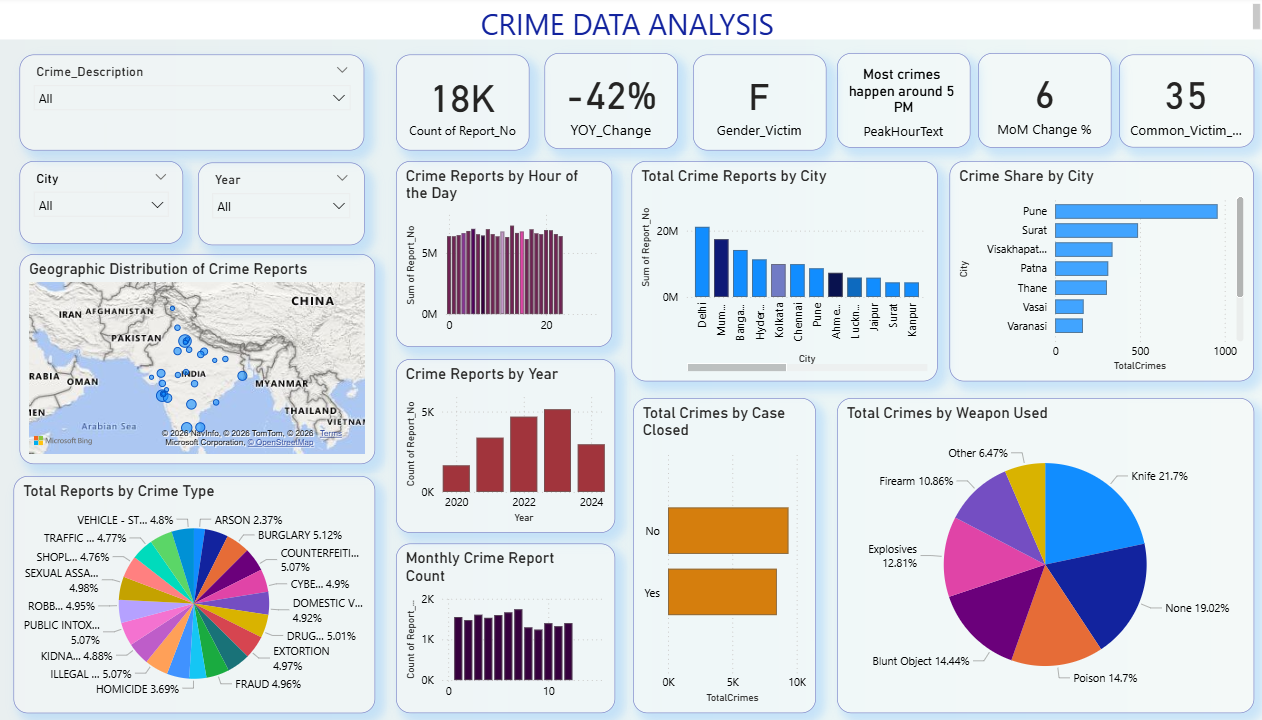

The dashboard page shown, as its layout file describes it:
{"tool":"powerbi","page":{"name":"Page 1","canvas":[1400,800],"ordinal":0},"visuals":[{"type":"card","fields":{"Values":["Count(crime_dataset_india.Report_No)"]},"box":[440.5,64.6,147.4,106],"z":0},{"type":"pieChart","title":"Total Reports by Crime Type","fields":{"Series":["crime_dataset_india.Crime_Description"],"Y":["Sum(crime_dataset_india.Report_No)"]},"box":[18.2,530,399.1,261.7],"z":1000},{"type":"clusteredColumnChart","title":"Crime Reports by Year","fields":{"Y":["Count(crime_dataset_india.Report_No)"],"Category":["crime_dataset_india.Year"]},"box":[440.5,400.8,241.8,192.1],"z":2000},{"type":"clusteredColumnChart","title":"Monthly Crime Report Count","fields":{"Y":["Count(crime_dataset_india.Report_No)"],"Category":["crime_dataset_india.Month"]},"box":[440.5,604.5,241.8,187.1],"z":3000},{"type":"columnChart","title":"Crime Reports by Hour of the Day","fields":{"Y":["Sum(crime_dataset_india.Report_No)"],"Category":["crime_dataset_india.Hour"]},"box":[440.5,182.2,238.5,205.4],"z":4000},{"type":"card","fields":{"Values":["crime_dataset_india.PeakHourText"]},"box":[927.5,62.9,147.4,104.3],"z":5000},{"type":"card","fields":{"Values":["crime_dataset_india.Most_Common_Victim_Age"]},"box":[1238.8,64.6,149.1,102.7],"z":6000},{"type":"card","fields":{"Values":["crime_dataset_india.Most_Common_Victim_Gender"]},"box":[768.5,64.6,147.4,106],"z":7000},{"type":"columnChart","title":"Total Crime Reports by City","fields":{"Category":["crime_dataset_india.City"],"Y":["Sum(crime_dataset_india.Report_No)"]},"box":[700.6,182.2,337.9,243.5],"z":8000},{"type":"card","fields":{"Values":["crime_dataset_india.YOY_Change"]},"box":[604.5,62.9,147.4,106],"z":9000},{"type":"barChart","title":"Crime Share by City","fields":{"Category":["crime_dataset_india.City"],"Y":["crime_dataset_india.TotalCrimes"]},"box":[1051.7,182.2,336.2,243.5],"z":10000},{"type":"map","title":"Geographic Distribution of Crime Reports","fields":{"Category":["crime_dataset_india.City"],"Size":["crime_dataset_india.TotalCrimes"]},"box":[24.8,284.9,392.5,231.9],"z":11000},{"type":"pieChart","title":"Total Crimes by Weapon Used","fields":{"Category":["crime_dataset_india.Weapon_Used"],"Y":["crime_dataset_india.TotalCrimes"]},"box":[927.5,443.9,460.4,347.8],"z":12000},{"type":"barChart","title":"Total Crimes by Case Closed","fields":{"Category":["crime_dataset_india.Case_Closed"],"Y":["crime_dataset_india.TotalCrimes"]},"box":[702.2,443.9,202.1,347.8],"z":13000},{"type":"slicer","fields":{"Values":["crime_dataset_india.City"]},"box":[24.8,182.2,180.5,91.1],"z":14000},{"type":"slicer","fields":{"Values":["crime_dataset_india.Crime_Description"]},"box":[24.8,64.6,380.9,106],"z":15000},{"type":"slicer","fields":{"Values":["crime_dataset_india.Year"]},"box":[221.9,183.8,183.8,91.1],"z":16000},{"type":"card","fields":{"Values":["crime_dataset_india.MoM Change %"]},"box":[1083.1,62.9,147.4,104.3],"z":18000},{"type":"textbox","box":[0,3.3,1399.5,44.7],"z":18001}]}

Visuals, with their boxes in screenshot pixels (x1, y1, x2, y2), scaled from the page's 1400x800 canvas onto the 1262x720 screenshot:
card - Count(crime_dataset_india.Report_No): 397, 58, 530, 154
"Total Reports by Crime Type" pieChart: 16, 477, 376, 713
"Crime Reports by Year" clusteredColumnChart: 397, 361, 615, 534
"Monthly Crime Report Count" clusteredColumnChart: 397, 544, 615, 712
"Crime Reports by Hour of the Day" columnChart: 397, 164, 612, 349
card - crime_dataset_india.PeakHourText: 836, 57, 969, 150
card - crime_dataset_india.Most_Common_Victim_Age: 1117, 58, 1251, 151
card - crime_dataset_india.Most_Common_Victim_Gender: 693, 58, 826, 154
"Total Crime Reports by City" columnChart: 632, 164, 936, 383
card - crime_dataset_india.YOY_Change: 545, 57, 678, 152
"Crime Share by City" barChart: 948, 164, 1251, 383
"Geographic Distribution of Crime Reports" map: 22, 256, 376, 465
"Total Crimes by Weapon Used" pieChart: 836, 400, 1251, 713
"Total Crimes by Case Closed" barChart: 633, 400, 815, 713
slicer - crime_dataset_india.City: 22, 164, 185, 246
slicer - crime_dataset_india.Crime_Description: 22, 58, 366, 154
slicer - crime_dataset_india.Year: 200, 165, 366, 247
card - crime_dataset_india.MoM Change %: 976, 57, 1109, 150
textbox: 0, 3, 1261, 43
